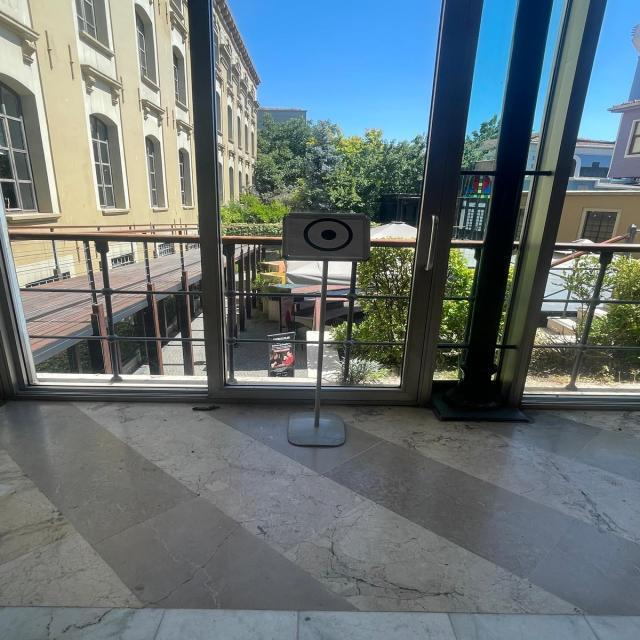Target: (278, 201, 377, 270)
inner: (314, 228, 347, 248)
